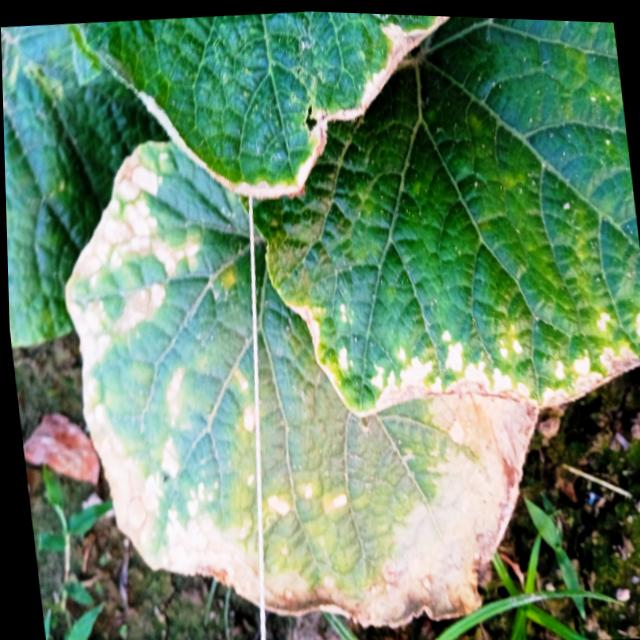Gummy-Stem-Blight: (66, 156, 539, 632)
